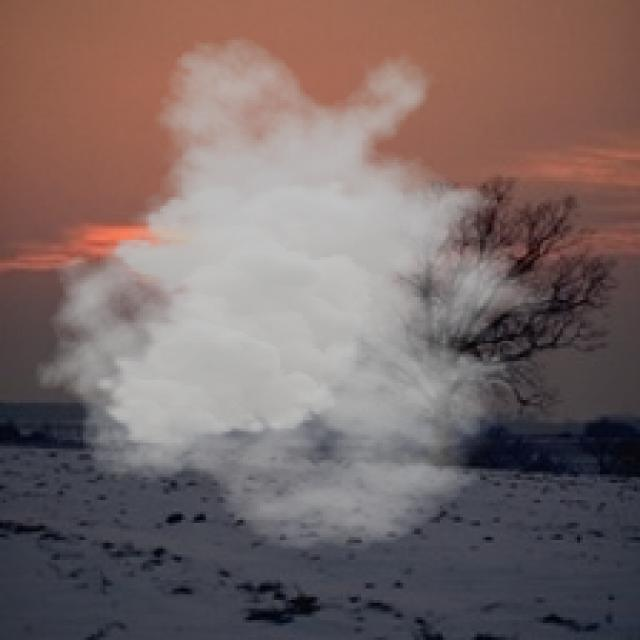smoke: (34, 34, 580, 552)
